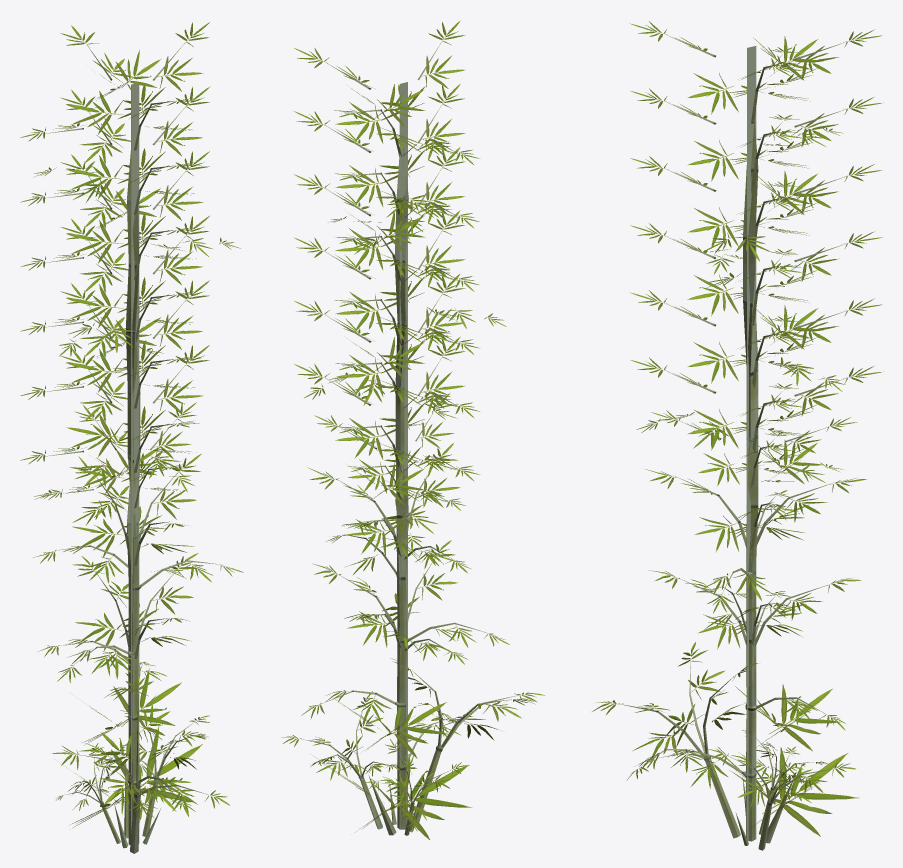
The model's file is bamburro.glb.
3 views of the same model, side by side, from view 1: azimuth 30°, elevation 25°; view 2: azimuth 150°, elevation 25°; view 3: azimuth 270°, elevation 25° (orthographic). The views are drawn at different scales.
Parts seen in each view (by area): view 1: Bamboo128, Bamboo30, DummyBamboo128, Bamboo110, Bamboo80, Bamboo120, Bamboo100, Bamboo90, Bamboo50, Bamboo40, Bamboo70, DummyBamboo110 (+4 smaller); view 2: Bamboo128, Bamboo30, Bamboo80, Bamboo100, Bamboo90, Bamboo120, Bamboo110, Bamboo50, Bamboo40, DummyBamboo128, Bamboo70, DummyBamboo30 (+4 smaller); view 3: Bamboo128, Bamboo30, DummyBamboo128, Bamboo120, Bamboo50, Bamboo100, Bamboo80, Bamboo40, Bamboo90, Bamboo110, DummyBamboo30, Bamboo70 (+4 smaller).
Part boxes in pixels (x1,y1,x2,y2): Bamboo128: [20, 22, 243, 844]; Bamboo30: [51, 665, 229, 853]; DummyBamboo128: [96, 49, 160, 798]; Bamboo110: [20, 151, 209, 330]; Bamboo80: [20, 345, 209, 519]; Bamboo120: [20, 86, 210, 229]; Bamboo100: [20, 216, 209, 358]; Bamboo90: [20, 280, 209, 423]; Bamboo50: [33, 453, 201, 584]; Bamboo40: [38, 553, 198, 676]; Bamboo70: [42, 402, 196, 587]; DummyBamboo110: [96, 178, 160, 799]; Bamboo128: [294, 20, 509, 829]; Bamboo30: [281, 658, 544, 835]; Bamboo80: [294, 336, 480, 513]; Bamboo100: [294, 210, 480, 387]; Bamboo90: [294, 273, 479, 508]; Bamboo120: [294, 84, 479, 227]; Bamboo110: [293, 147, 478, 324]; Bamboo50: [307, 443, 470, 573]; Bamboo40: [312, 540, 467, 664]; DummyBamboo128: [351, 82, 425, 817]; Bamboo70: [314, 393, 465, 510]; DummyBamboo30: [314, 754, 472, 839]; Bamboo128: [630, 21, 882, 841]; Bamboo30: [592, 642, 855, 850]; DummyBamboo128: [747, 36, 823, 839]; Bamboo120: [630, 88, 883, 236]; Bamboo50: [645, 469, 866, 552]; Bamboo100: [630, 223, 882, 371]; Bamboo80: [630, 357, 883, 453]; Bamboo40: [649, 570, 861, 649]; Bamboo90: [630, 290, 882, 388]; Bamboo110: [630, 156, 881, 248]; DummyBamboo30: [715, 747, 859, 836]; Bamboo70: [651, 410, 857, 572].
Bounding box in the file's own units: 35.58 × 122 × 41.37.
2 materials, 2 textured.
